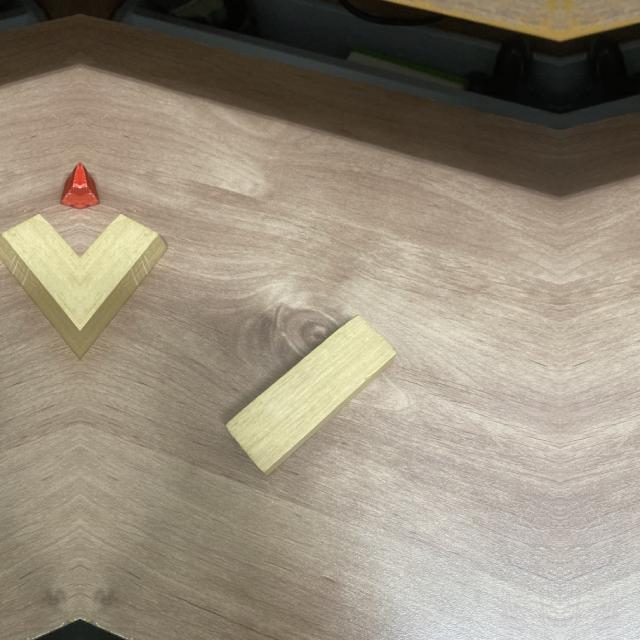jenga: (225, 316, 396, 476), (80, 214, 167, 363), (0, 214, 80, 363)
red block: (80, 162, 99, 213), (61, 162, 80, 213)
